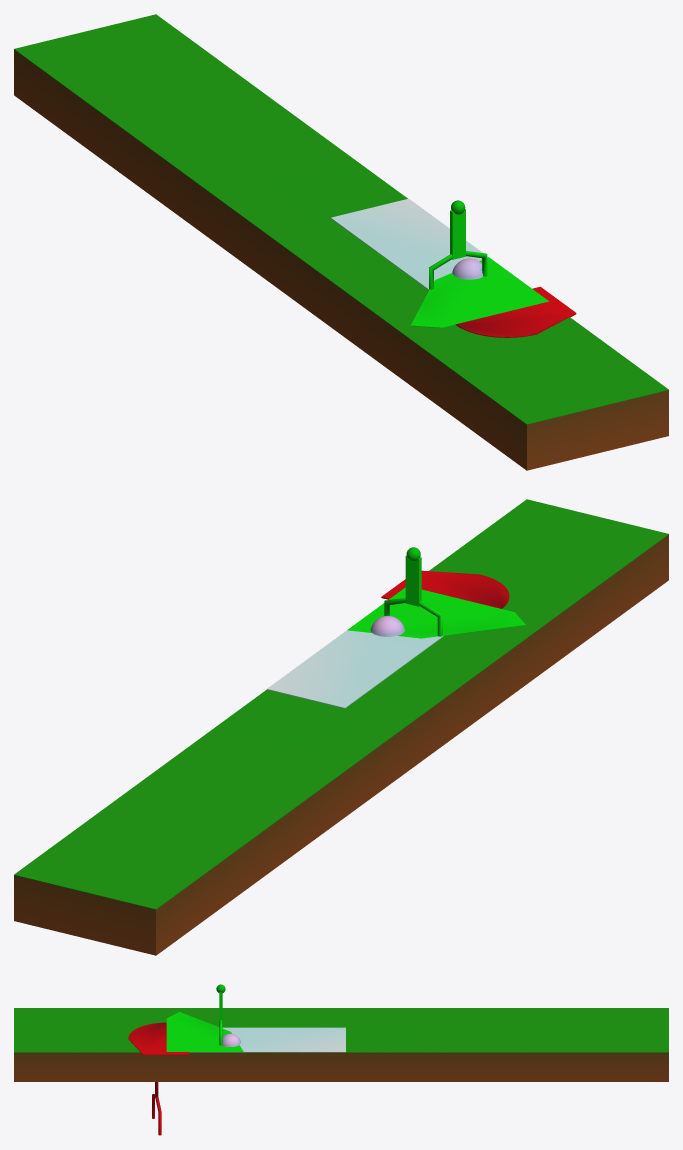
3 renders of one model, top to bottom at view 1: azimuth 30°, elevation 25°; view 2: azimuth 150°, elevation 25°; view 3: azimuth 270°, elevation 25°, orthographic. The views are drawn at different scales.
Visible parts, largest first — view 1: grass, earth, tongue, cheeks, hood, neck; view 2: grass, earth, tongue, cheeks, hood, neck; view 3: grass, earth, tongue, cheeks, hood.
Part boxes in pixels (x1,y1,x2,y2): grass: (14, 14, 668, 424); earth: (14, 49, 668, 470); tongue: (331, 198, 488, 289); cheeks: (410, 257, 548, 328); hood: (455, 286, 576, 337); neck: (450, 209, 465, 259); grass: (14, 499, 668, 909); earth: (14, 534, 668, 955); tongue: (267, 630, 443, 708); cheeks: (347, 587, 525, 638); hood: (381, 570, 509, 608); neck: (405, 555, 421, 606); grass: (14, 1008, 668, 1052); earth: (14, 1052, 668, 1081); tongue: (189, 1027, 345, 1052); cheeks: (166, 1012, 243, 1051); hood: (128, 1022, 188, 1055).
Size of the model in its own units: 0.1795 by 0.219 by 1.
